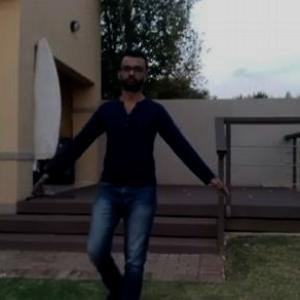land: (46, 52, 227, 299)
